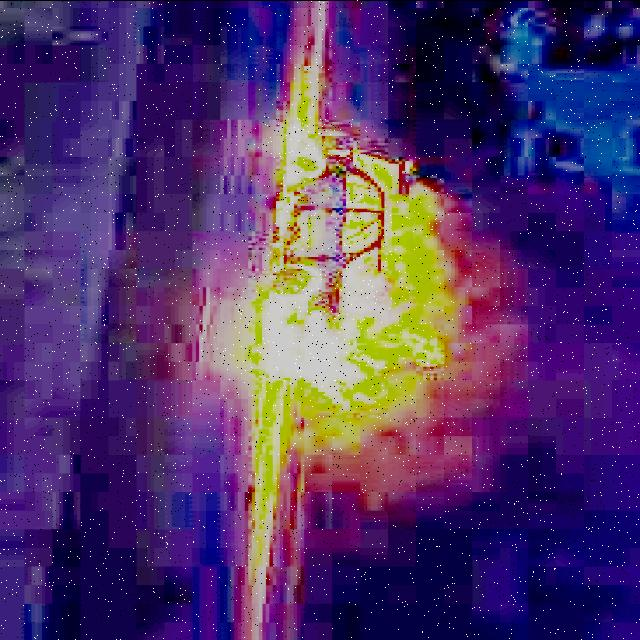api: (260, 248, 449, 418), (267, 108, 386, 206)
